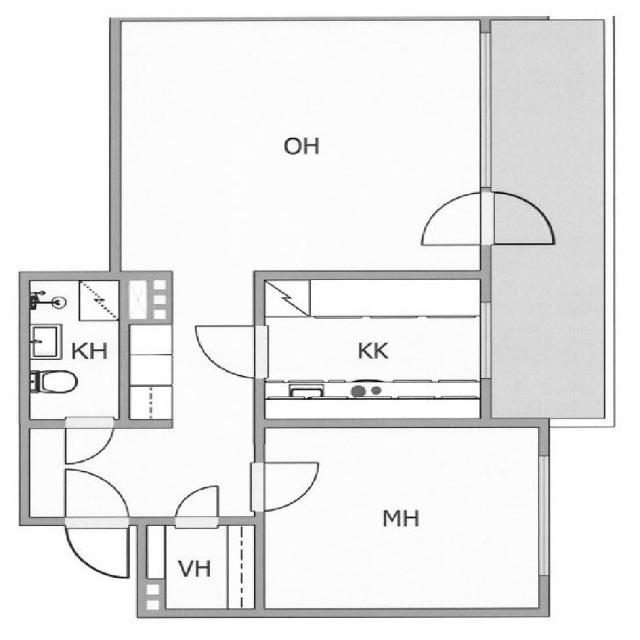door: (408, 177, 494, 251), (199, 315, 287, 380), (486, 179, 555, 261), (242, 461, 335, 510), (51, 469, 130, 524), (63, 521, 133, 583), (54, 418, 132, 463), (174, 487, 231, 529)
window: (461, 23, 525, 190), (520, 452, 566, 581), (460, 299, 518, 391)
zone: (111, 16, 484, 275), (264, 422, 542, 622), (256, 272, 487, 422), (257, 273, 487, 423), (21, 274, 120, 422)
